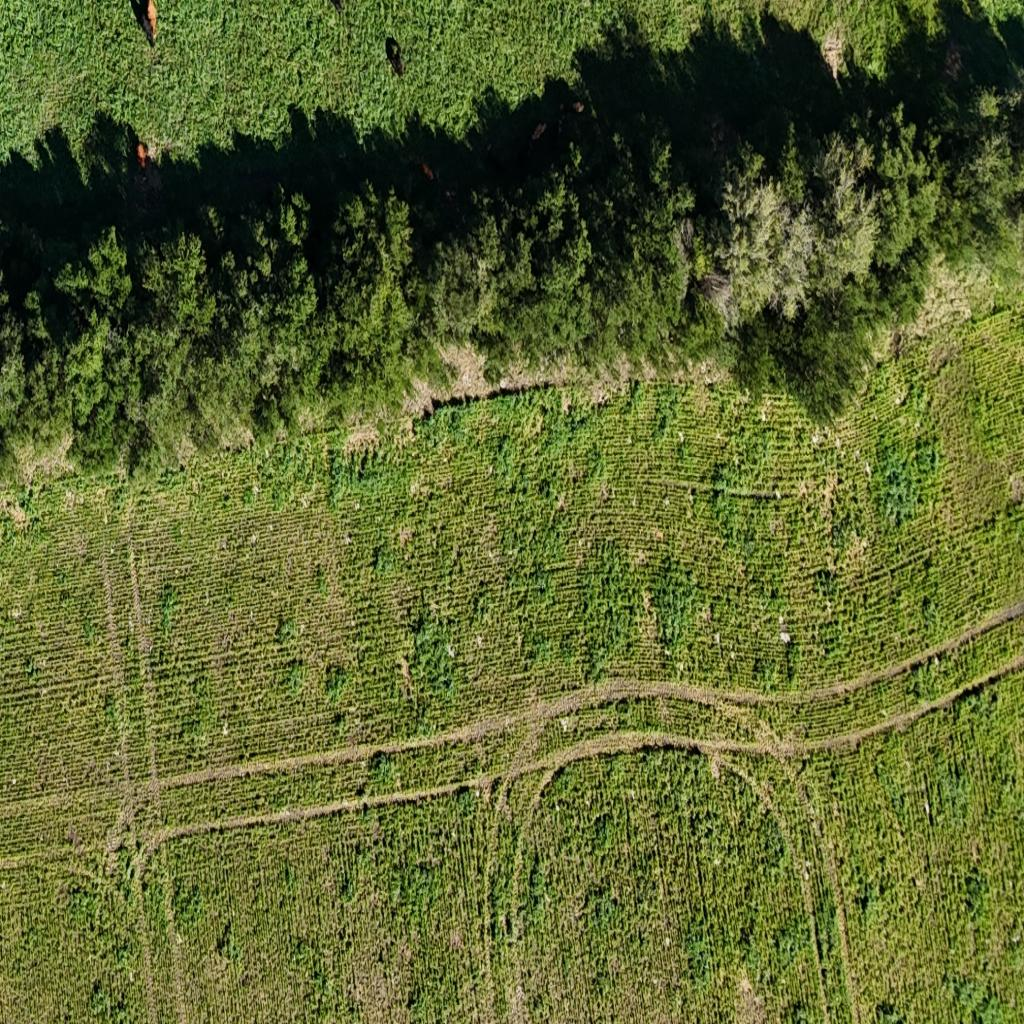cow: (386, 37, 405, 79)
